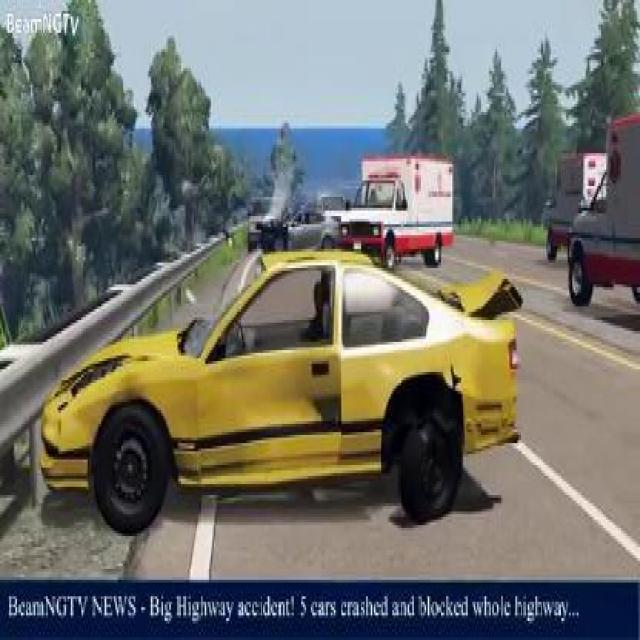accident: (0, 235, 525, 547), (232, 194, 338, 257)
